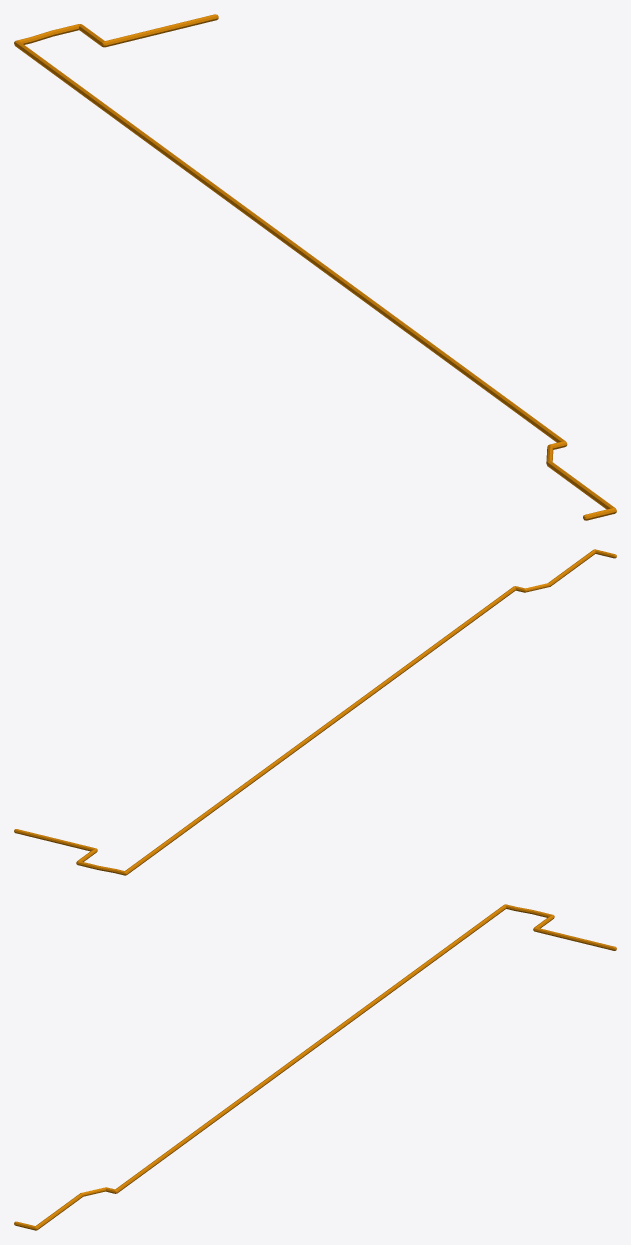
3 views of the same model, one above another, from view 1: azimuth 30°, elevation 25°; view 2: azimuth 150°, elevation 25°; view 3: azimuth 330°, elevation 25° (orthographic). The views are drawn at different scales.
Size of the model in its own units: 863 by 20 by 3931.
